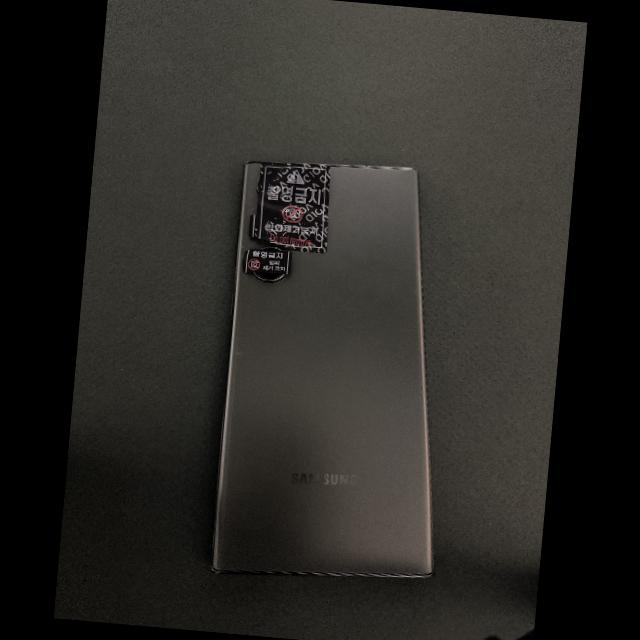lens: (255, 273, 287, 282)
phone: (211, 159, 433, 577)
sticker: (254, 162, 330, 253), (242, 248, 292, 274), (248, 215, 256, 238)
